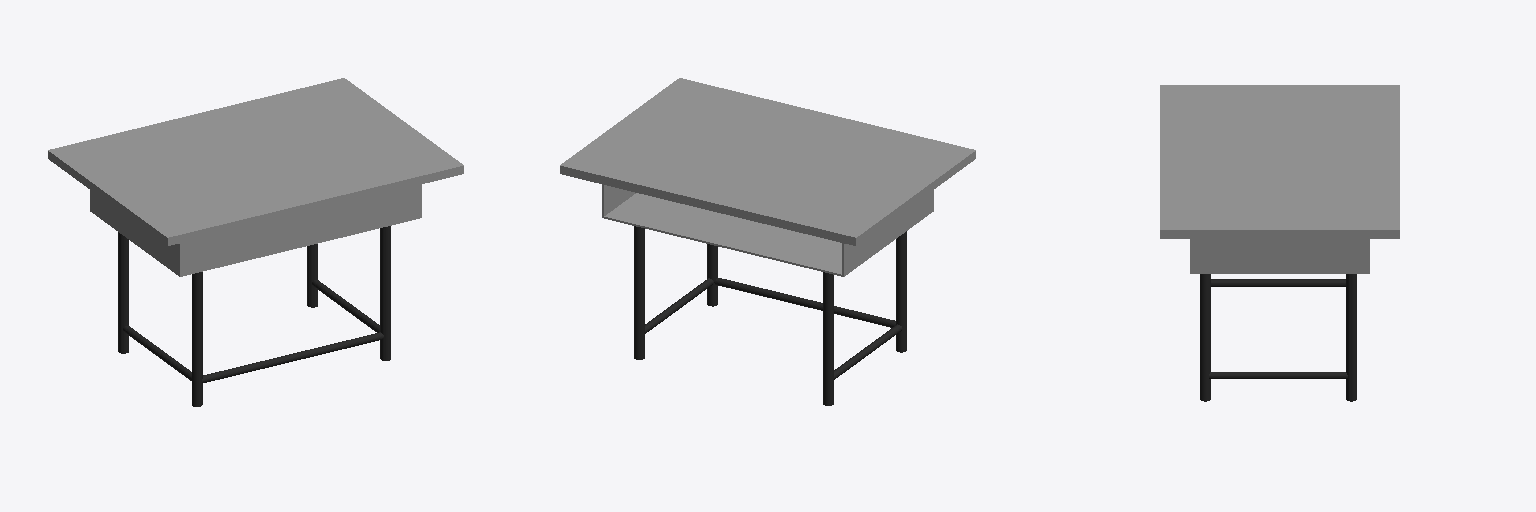
The model's file is desk.obj.
The picture shows the model from 3 angles: view 1: azimuth 30°, elevation 25°; view 2: azimuth 150°, elevation 25°; view 3: azimuth 270°, elevation 25°; orthographic projection.
Visible parts, largest first — view 1: Cube, Cube.001_Cube.002, Cylinder; view 2: Cube, Cube.001_Cube.002, Cylinder; view 3: Cube, Cube.001_Cube.002, Cylinder.
Boxes of the visible parts, box(x1,y1,x2,y2) form: Cube: box(48, 78, 463, 245); Cube.001_Cube.002: box(90, 184, 421, 276); Cylinder: box(118, 226, 390, 406); Cube: box(560, 78, 975, 245); Cube.001_Cube.002: box(602, 184, 933, 276); Cylinder: box(634, 226, 906, 405); Cube: box(1160, 85, 1399, 238); Cube.001_Cube.002: box(1190, 239, 1369, 273); Cylinder: box(1200, 274, 1356, 401).
Bounding box in the file's own units: 4.41 × 2.78 × 3.08.